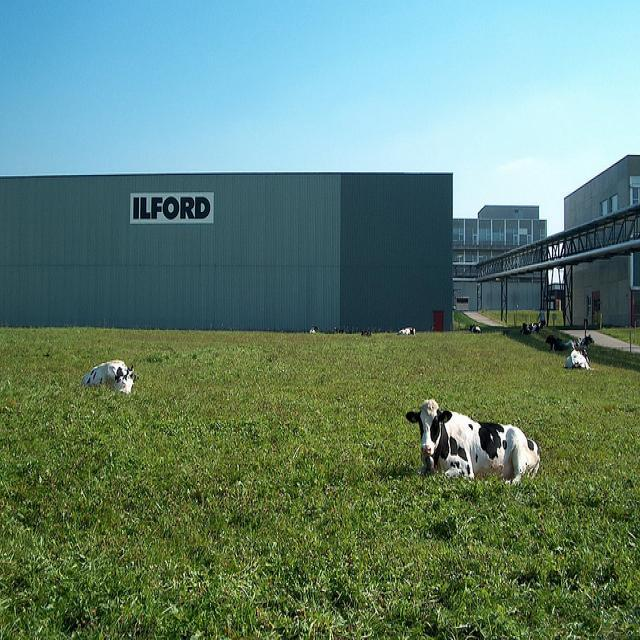cow: (404, 397, 539, 485), (78, 355, 134, 392), (563, 346, 593, 368), (543, 331, 562, 351), (572, 331, 594, 347), (396, 323, 414, 334), (527, 319, 539, 330), (467, 322, 480, 331), (308, 324, 318, 332)
